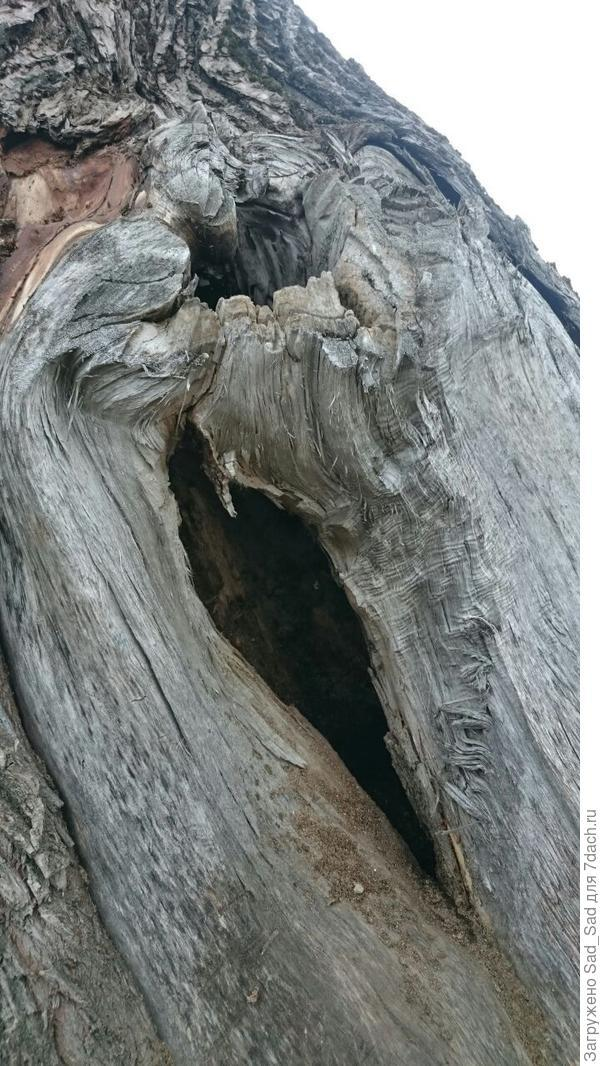hollow: (170, 427, 433, 875)
